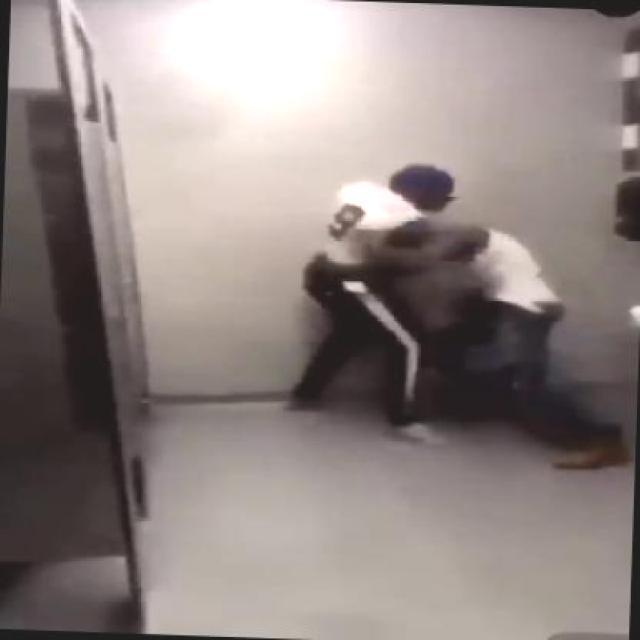fight: (296, 158, 638, 471)
